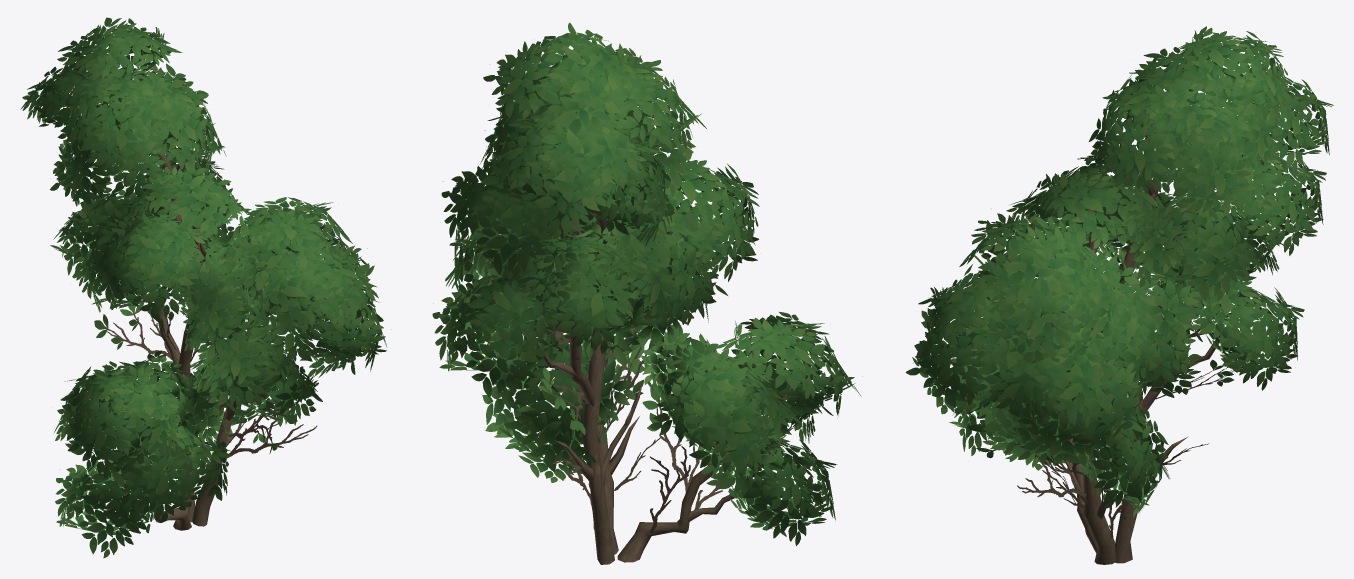
File: SM_FW01_Tree_B_11.fbx
3 views of the same model, side by side, from view 1: azimuth 30°, elevation 25°; view 2: azimuth 150°, elevation 25°; view 3: azimuth 270°, elevation 25° (orthographic). The views are drawn at different scales.
Parts seen in each view (by area): view 1: SM_FW01_Tree_B_11_LOD0; view 2: SM_FW01_Tree_B_11_LOD0; view 3: SM_FW01_Tree_B_11_LOD0.
Part boxes in pixels (x1=…): SM_FW01_Tree_B_11_LOD0: x1=20, y1=17, x2=391, y2=558; SM_FW01_Tree_B_11_LOD0: x1=432, y1=22, x2=862, y2=564; SM_FW01_Tree_B_11_LOD0: x1=905, y1=26, x2=1333, y2=564.
Size of what is drawn, in the model's own units: 4.01 by 5.66 by 4.32.
